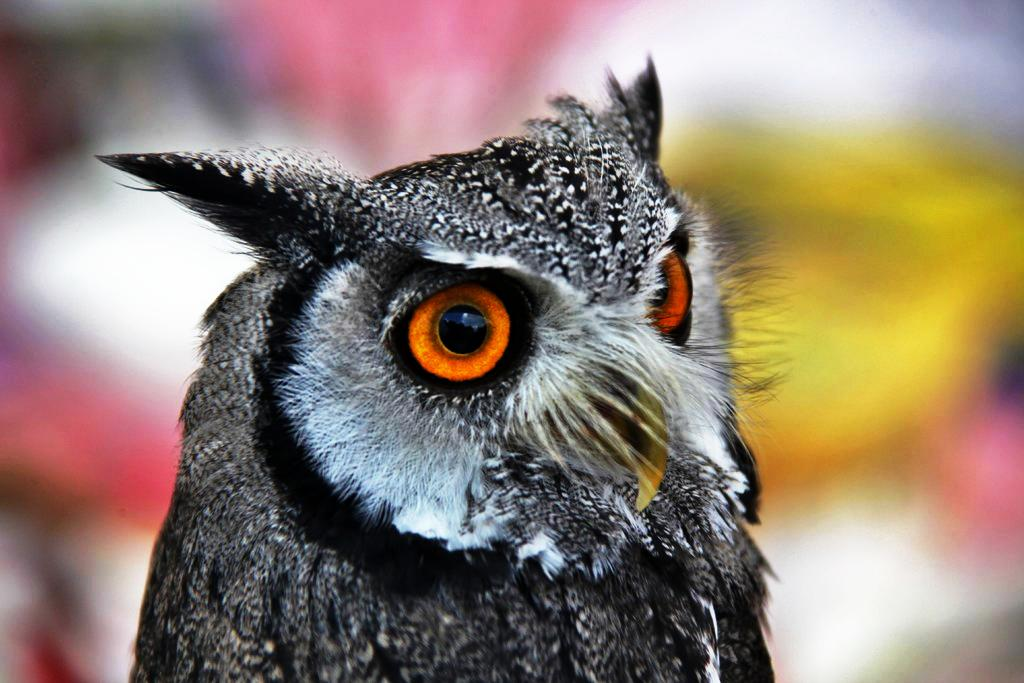Owl: (101, 51, 790, 682)
